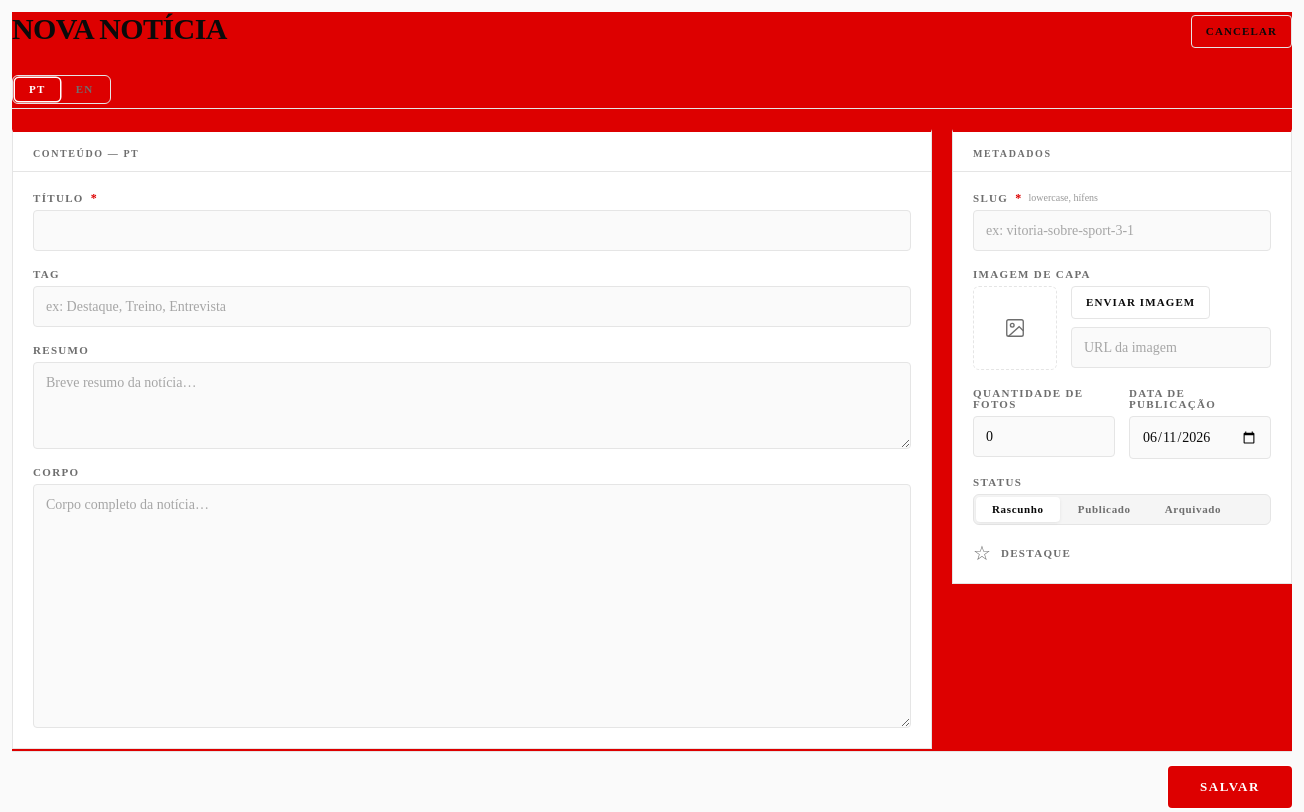
Scenario: NewsForm › auto-generates slug from PT title
Type "Vitória sobre Sport" into the field labelled "Título *".
click(472, 230); type("Vitória sobre Sport")  # box [33,210,911,251]
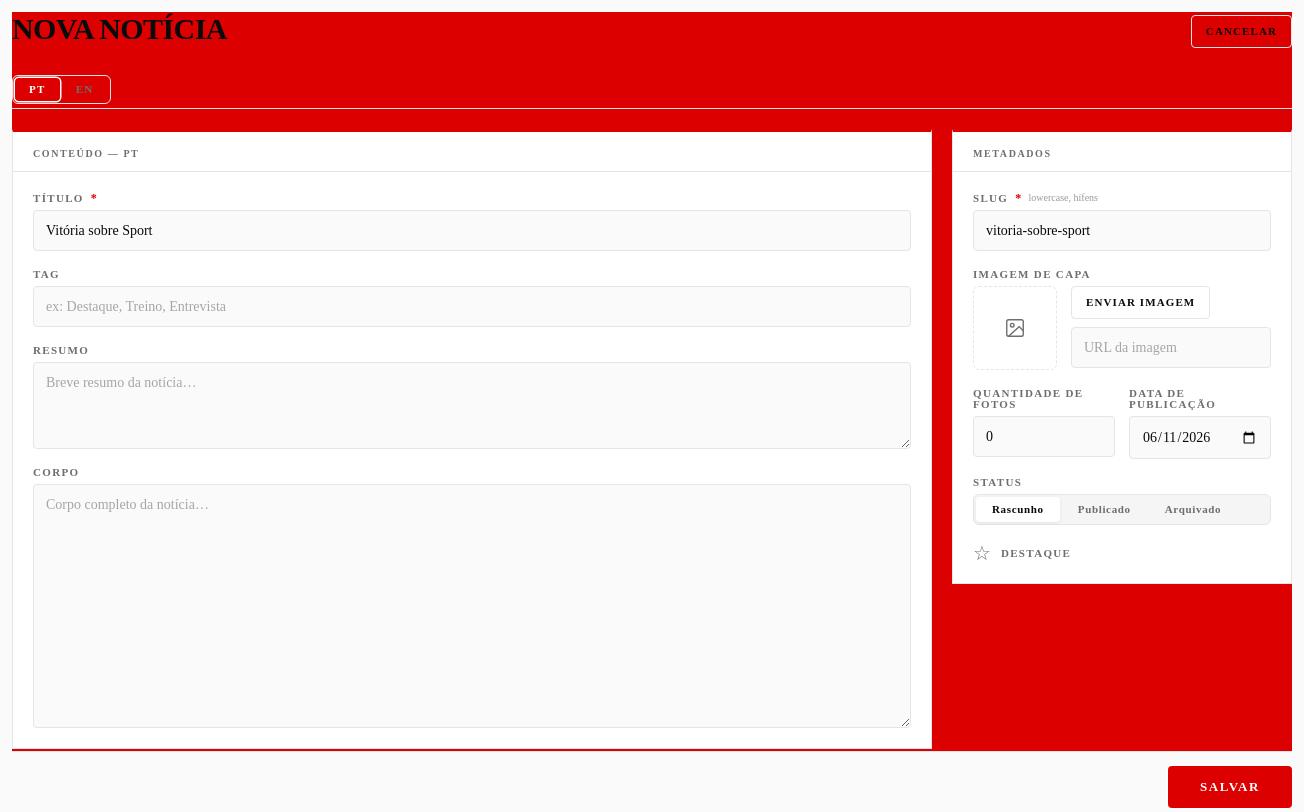
Expected: the field labelled "Slug * lowercase, hífens" holds "vitoria-sobre-sport", [973,210,1271,251]
